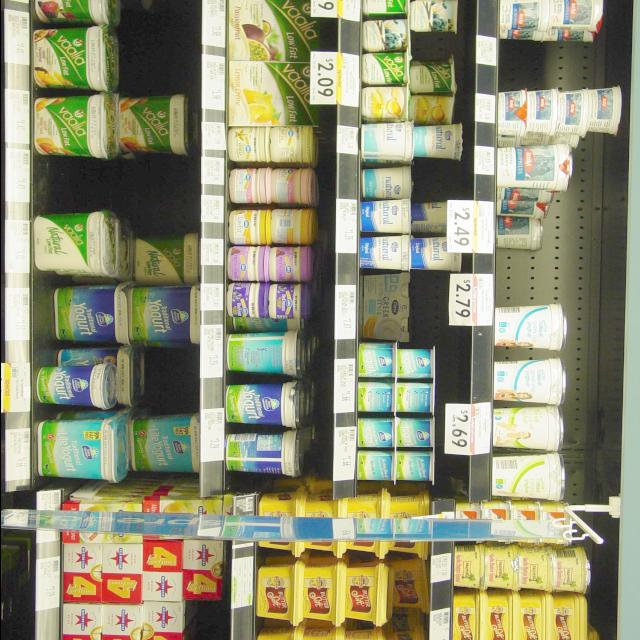empty_space: (33, 158, 179, 214), (117, 4, 195, 91), (494, 45, 594, 92), (499, 251, 577, 305), (141, 347, 186, 405), (30, 283, 58, 366)
